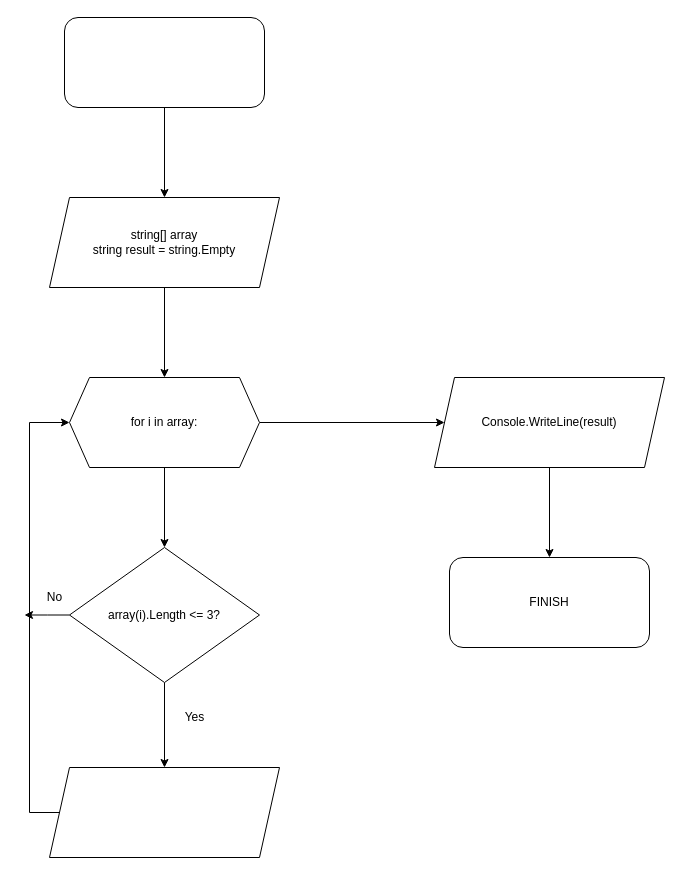
Image size: 682x875. Some labels were removed from this diagram. The shapes that lost their labels are listed below. From the top down, each one's centre as x and y in pixels, then its label:
At [164,62]: "START".
At [164,812]: "result = result + array(i)".
